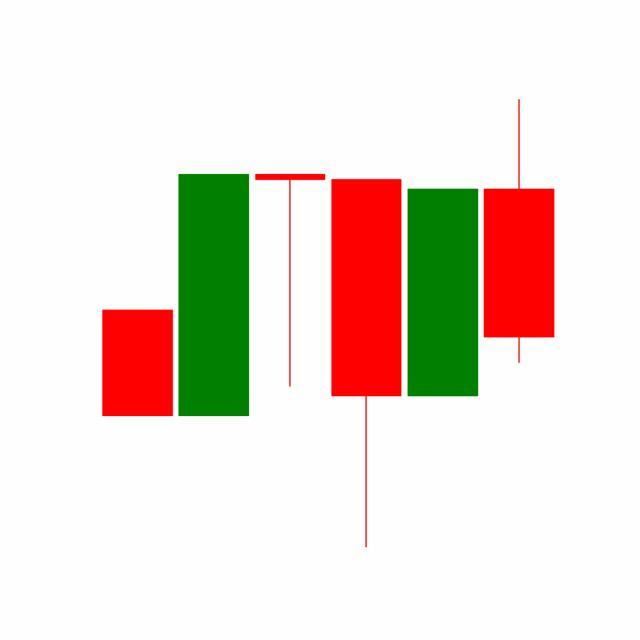Marubozu: (404, 187, 482, 399)
